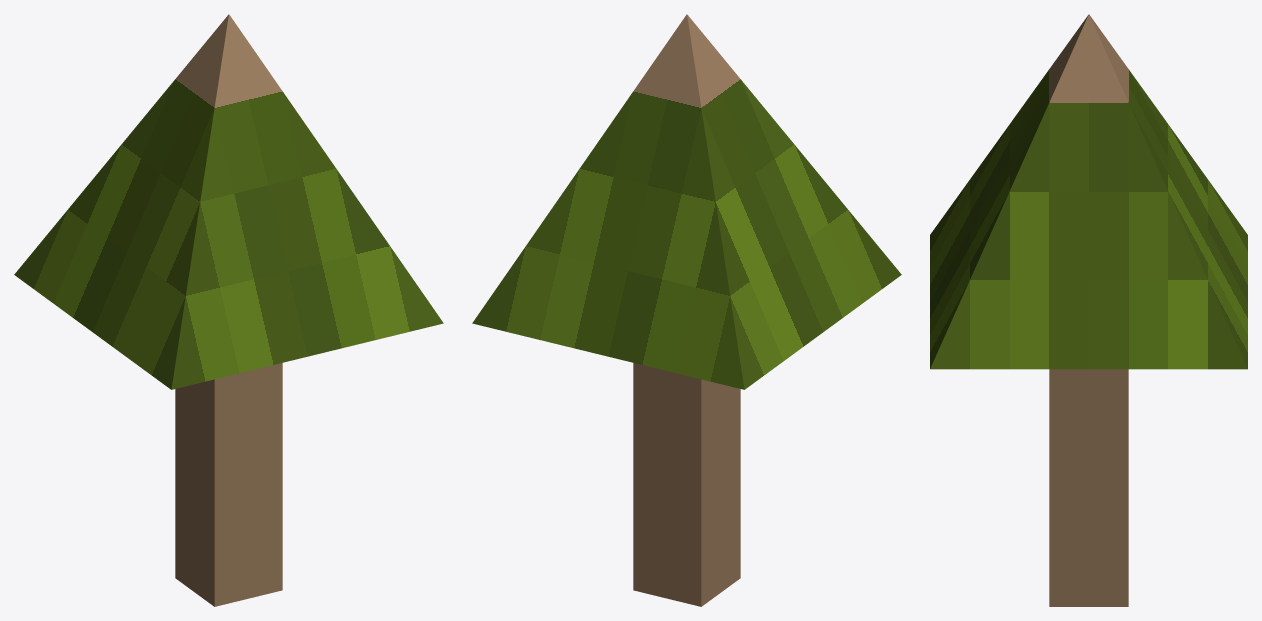
Rendered from green_umbrella_close_3d.obj.
3 renders of one model, left to right at view 1: azimuth 30°, elevation 25°; view 2: azimuth 150°, elevation 25°; view 3: azimuth 270°, elevation 25°, orthographic.
Visible parts, largest first — view 1: Cube; view 2: Cube; view 3: Cube.
Part boxes in pixels (x1=…): Cube: x1=14, y1=14, x2=443, y2=606; Cube: x1=472, y1=14, x2=901, y2=606; Cube: x1=930, y1=14, x2=1247, y2=606.
Size of the model in its own units: 0.5 by 1 by 0.5.
